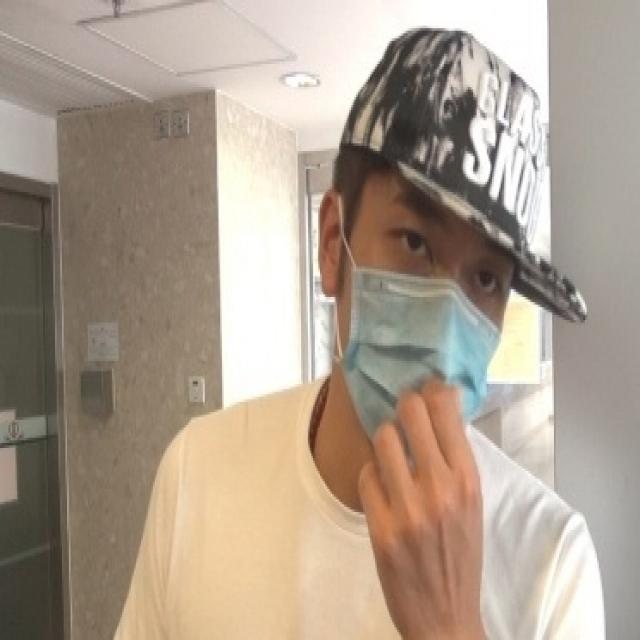mask: (339, 147, 507, 462)
